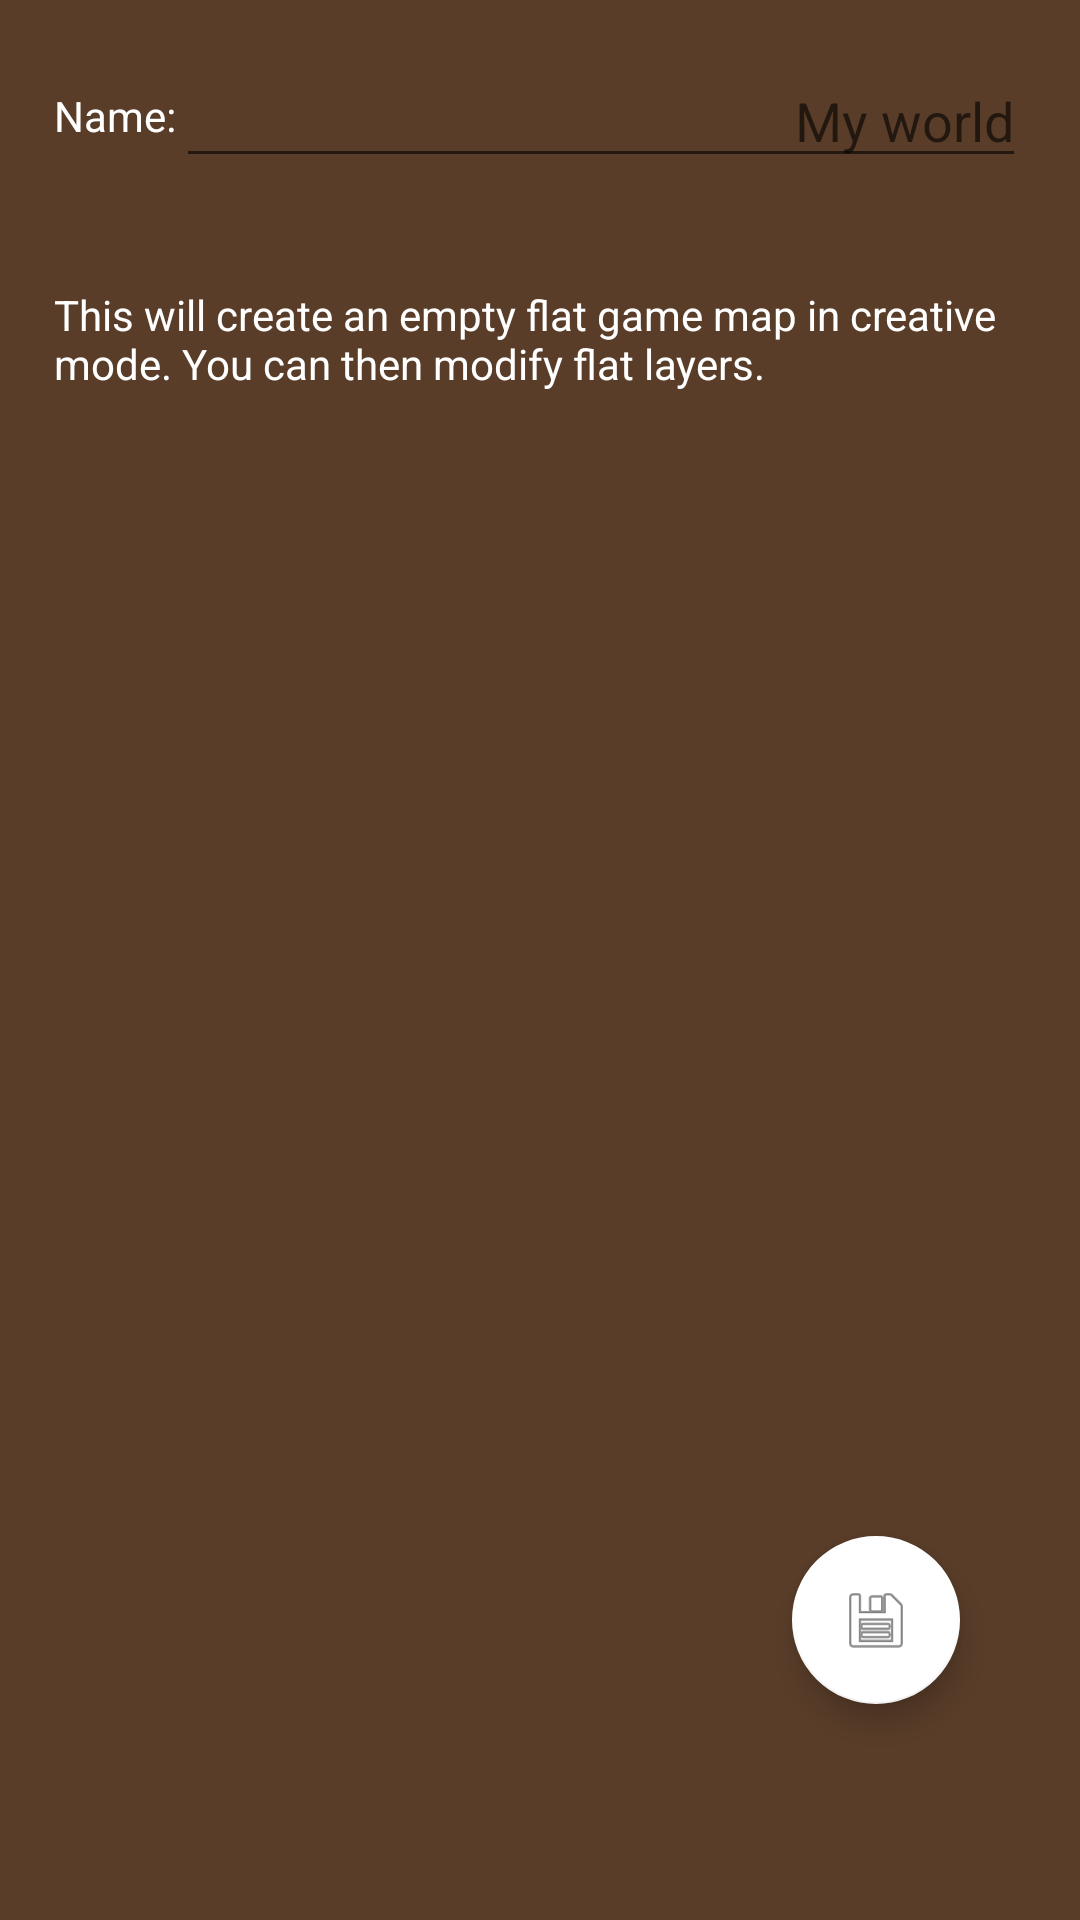

Named icons in this screenshot (1080×1920) and their bounding boxes, detection(x1, y1, x2, y2):
save: detection(792, 1536, 960, 1704)
